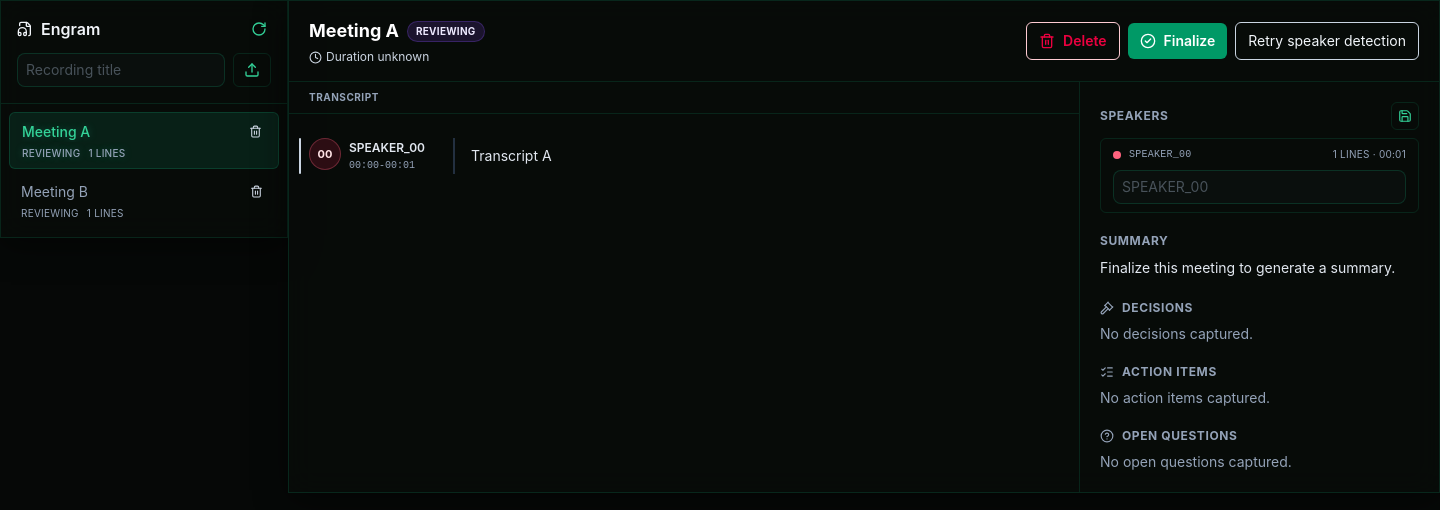
preserves the current selection after a delayed delete of another meeting
Expected: the heading "Meeting A" is shown, [309,17,399,45]
Click the button "Delete" at (1073, 41), box [1026,22,1120,60]
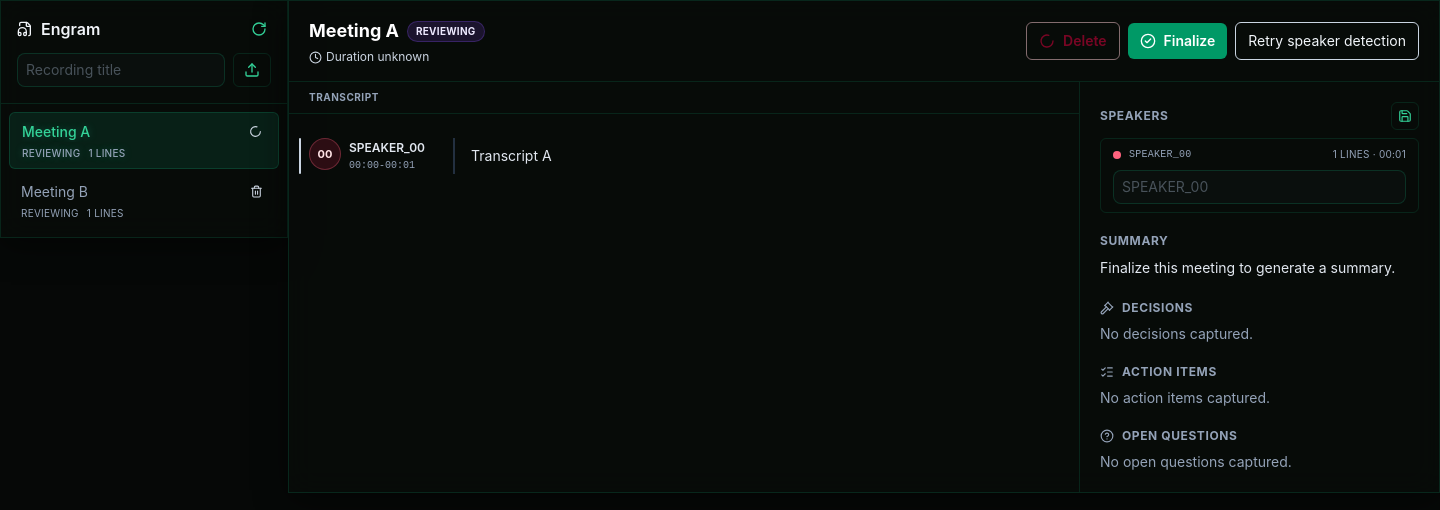
Click the button "Meeting B reviewing 1 lines" at (54, 191), box [9,173,279,229]
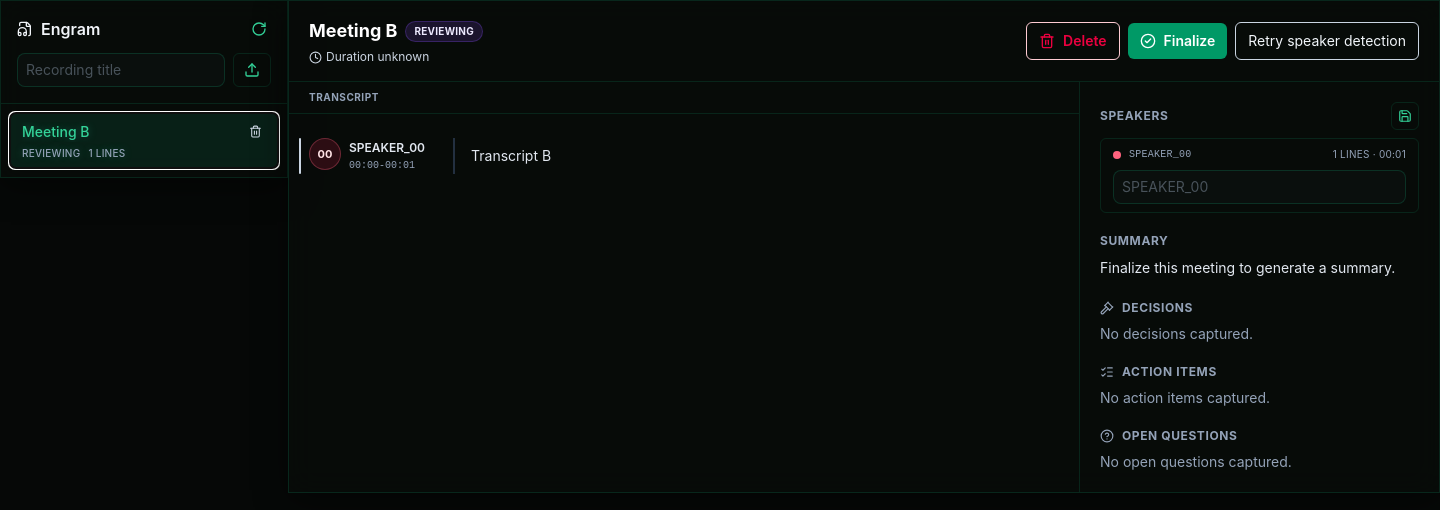
Now the heading "Meeting B" is shown, box [309,17,397,45]
Now the button "Meeting A" is gone
